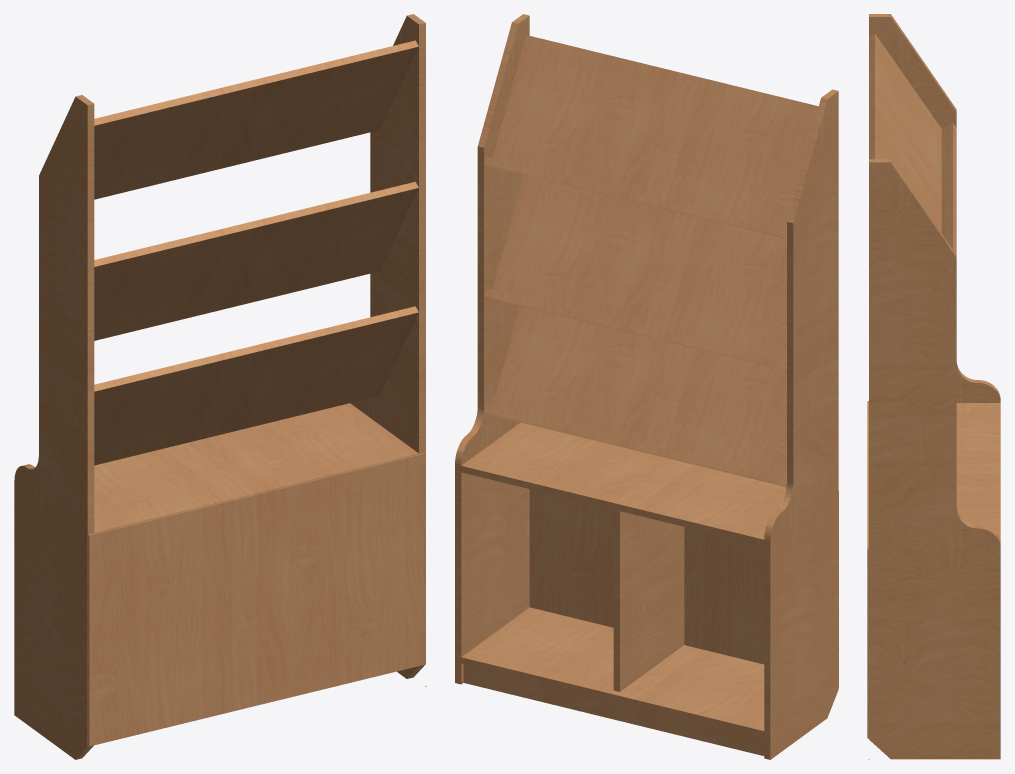
Rendered from vitrina_knizhnaja_1_storonnjaja_s_tumboj_3_polki.glb.
3 renders of one model, left to right at view 1: azimuth 30°, elevation 25°; view 2: azimuth 150°, elevation 25°; view 3: azimuth 270°, elevation 25°, orthographic. The views are drawn at different scales.
Parts seen in each view (by area): view 1: Shape_IndexedFaceSet.006_NON, Shape_IndexedFaceSet.008, Shape_IndexedFaceSet.004, Shape_IndexedFaceSet.003, Shape_IndexedFaceSet.005, Shape_IndexedFaceSet.010, Shape_IndexedFaceSet.007; view 2: Shape_IndexedFaceSet.003, Shape_IndexedFaceSet.008, Shape_IndexedFaceSet.005, Shape_IndexedFaceSet.004, Shape_IndexedFaceSet.007, Shape_IndexedFaceSet.006_NON, Shape_IndexedFaceSet.010, Shape_IndexedFaceSet.009, Shape_IndexedFaceSet.011, Shape_IndexedFaceSet.012, Shape_IndexedFaceSet, Shape_IndexedFaceSet.001 (+1 smaller); view 3: Shape_IndexedFaceSet.007, Shape_IndexedFaceSet.003, Shape_IndexedFaceSet.010, Shape_IndexedFaceSet.008, Shape_IndexedFaceSet, Shape_IndexedFaceSet.006_NON.
Part boxes in pixels (x1=…): Shape_IndexedFaceSet.006_NON: x1=88, y1=453, x2=425, y2=746; Shape_IndexedFaceSet.008: x1=14, y1=95, x2=94, y2=759; Shape_IndexedFaceSet.004: x1=94, y1=306, x2=418, y2=465; Shape_IndexedFaceSet.003: x1=94, y1=40, x2=418, y2=199; Shape_IndexedFaceSet.005: x1=94, y1=181, x2=418, y2=340; Shape_IndexedFaceSet.010: x1=94, y1=403, x2=418, y2=533; Shape_IndexedFaceSet.007: x1=350, y1=14, x2=425, y2=678; Shape_IndexedFaceSet.003: x1=491, y1=35, x2=818, y2=239; Shape_IndexedFaceSet.008: x1=764, y1=89, x2=838, y2=759; Shape_IndexedFaceSet.005: x1=491, y1=175, x2=786, y2=370; Shape_IndexedFaceSet.004: x1=491, y1=306, x2=786, y2=487; Shape_IndexedFaceSet.007: x1=455, y1=14, x2=529, y2=684; Shape_IndexedFaceSet.006_NON: x1=529, y1=489, x2=838, y2=687; Shape_IndexedFaceSet.010: x1=461, y1=422, x2=786, y2=546; Shape_IndexedFaceSet.009: x1=461, y1=607, x2=764, y2=737; Shape_IndexedFaceSet.011: x1=613, y1=509, x2=684, y2=691; Shape_IndexedFaceSet.012: x1=463, y1=664, x2=764, y2=755; Shape_IndexedFaceSet: x1=484, y1=157, x2=786, y2=238; Shape_IndexedFaceSet.001: x1=484, y1=405, x2=786, y2=486; Shape_IndexedFaceSet.007: x1=869, y1=159, x2=1000, y2=759; Shape_IndexedFaceSet.003: x1=869, y1=33, x2=941, y2=232; Shape_IndexedFaceSet.010: x1=956, y1=403, x2=1000, y2=542; Shape_IndexedFaceSet.008: x1=869, y1=14, x2=1000, y2=402; Shape_IndexedFaceSet: x1=941, y1=122, x2=956, y2=254; Shape_IndexedFaceSet.006_NON: x1=867, y1=401, x2=868, y2=738.
Size of the model in its own units: 801 by 1501 by 304.
Materials: 14 (13 with a texture image).
